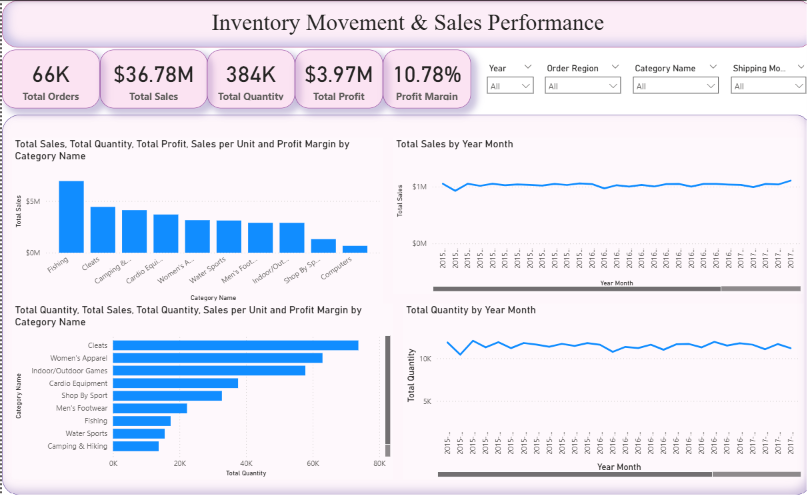

Layout of this report page (visuals, bound fields, positions):
{"tool":"powerbi","page":{"name":"milestone1","canvas":[1330,810],"ordinal":0},"visuals":[{"type":"textbox","box":[0,186,1328,624],"z":0},{"type":"slicer","fields":{"Values":["DimDate.Year"]},"box":[784,96,96,80],"z":1000},{"type":"slicer","fields":{"Values":["DimGeography.Order Region"]},"box":[880,96,144,80],"z":2000},{"type":"slicer","fields":{"Values":["DimProduct.Category Name"]},"box":[1024,96,160,80],"z":3000},{"type":"slicer","fields":{"Values":["DimShipping.Shipping Mode"]},"box":[1184,96,144,80],"z":4000},{"type":"textbox","box":[0,0,1330,76.7],"z":5000},{"type":"card","fields":{"Values":["FactOrders.Total Orders"]},"box":[0,80,160,96],"z":6000},{"type":"card","fields":{"Values":["FactOrders.Total Sales"]},"box":[160,80,176,96],"z":7000},{"type":"card","fields":{"Values":["FactOrders.Total Quantity"]},"box":[336,80,144,96],"z":8000},{"type":"card","fields":{"Values":["FactOrders.Total Profit"]},"box":[480,80,144,96],"z":9000},{"type":"card","fields":{"Values":["FactOrders.Profit Margin"]},"box":[624,80,144,96],"z":10000},{"type":"clusteredColumnChart","fields":{"Category":["DimProduct.Category Name"],"Y":["FactOrders.Total Sales"]},"box":[16,224,608,272],"z":11000},{"type":"lineChart","fields":{"Y":["FactOrders.Total Sales"],"Category":["DimDate.Year Month"]},"box":[640,224,672,256],"z":12000},{"type":"clusteredBarChart","fields":{"Category":["DimProduct.Category Name"],"Y":["FactOrders.Total Quantity"]},"box":[16,496,624,288],"z":13000},{"type":"lineChart","fields":{"Category":["DimDate.Year Month"],"Y":["FactOrders.Total Quantity"]},"box":[656,496,656,288],"z":14000}]}

Visuals, with their boxes in screenshot pixels (x1, y1, x2, y2), scaled from the page's 1330x810 canvas onto the 807x495 screenshot:
textbox: crop(0, 114, 806, 494)
slicer - DimDate.Year: crop(476, 59, 534, 108)
slicer - DimGeography.Order Region: crop(534, 59, 621, 108)
slicer - DimProduct.Category Name: crop(621, 59, 718, 108)
slicer - DimShipping.Shipping Mode: crop(718, 59, 806, 108)
textbox: crop(0, 0, 806, 47)
card - FactOrders.Total Orders: crop(0, 49, 97, 108)
card - FactOrders.Total Sales: crop(97, 49, 204, 108)
card - FactOrders.Total Quantity: crop(204, 49, 291, 108)
card - FactOrders.Total Profit: crop(291, 49, 379, 108)
card - FactOrders.Profit Margin: crop(379, 49, 466, 108)
clusteredColumnChart - DimProduct.Category Name x FactOrders.Total Sales: crop(10, 137, 379, 303)
lineChart - FactOrders.Total Sales x DimDate.Year Month: crop(388, 137, 796, 293)
clusteredBarChart - DimProduct.Category Name x FactOrders.Total Quantity: crop(10, 303, 388, 479)
lineChart - DimDate.Year Month x FactOrders.Total Quantity: crop(398, 303, 796, 479)
